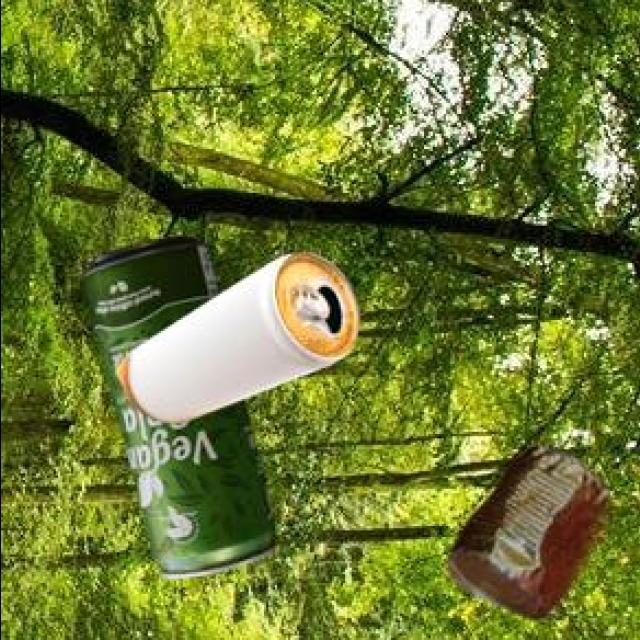logam: (87, 233, 277, 575), (119, 249, 361, 420), (450, 444, 610, 615)
